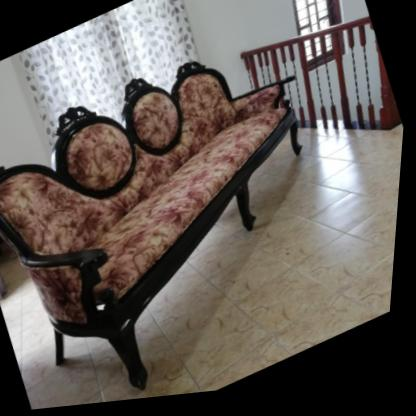Sofa: (0, 17, 370, 416)
